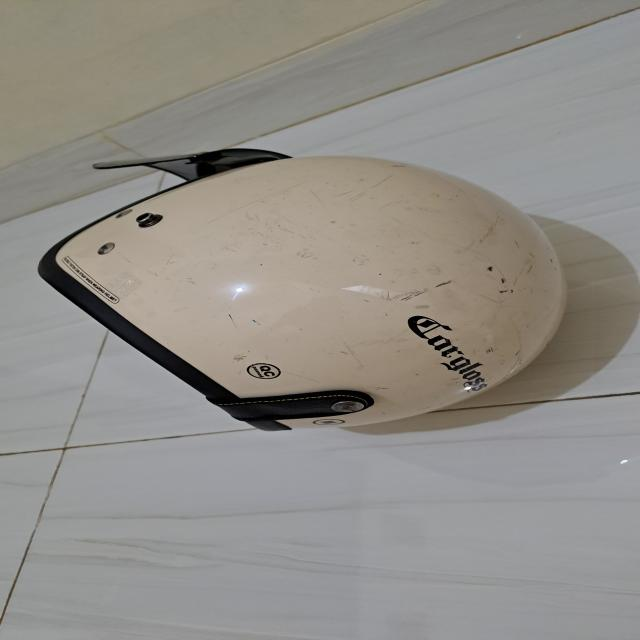Helm: (26, 141, 588, 438)
